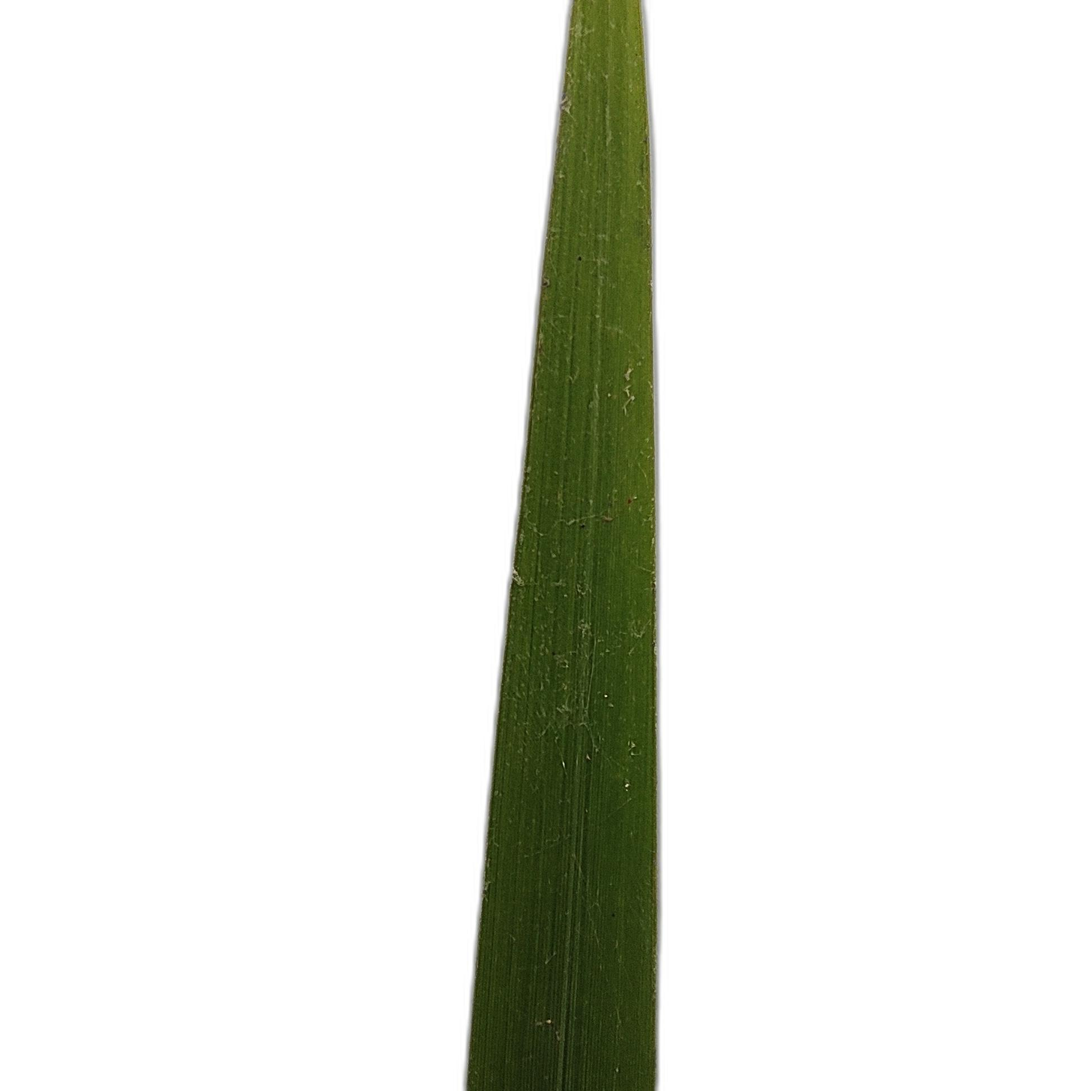Healthy: (467, 0, 657, 1090)
